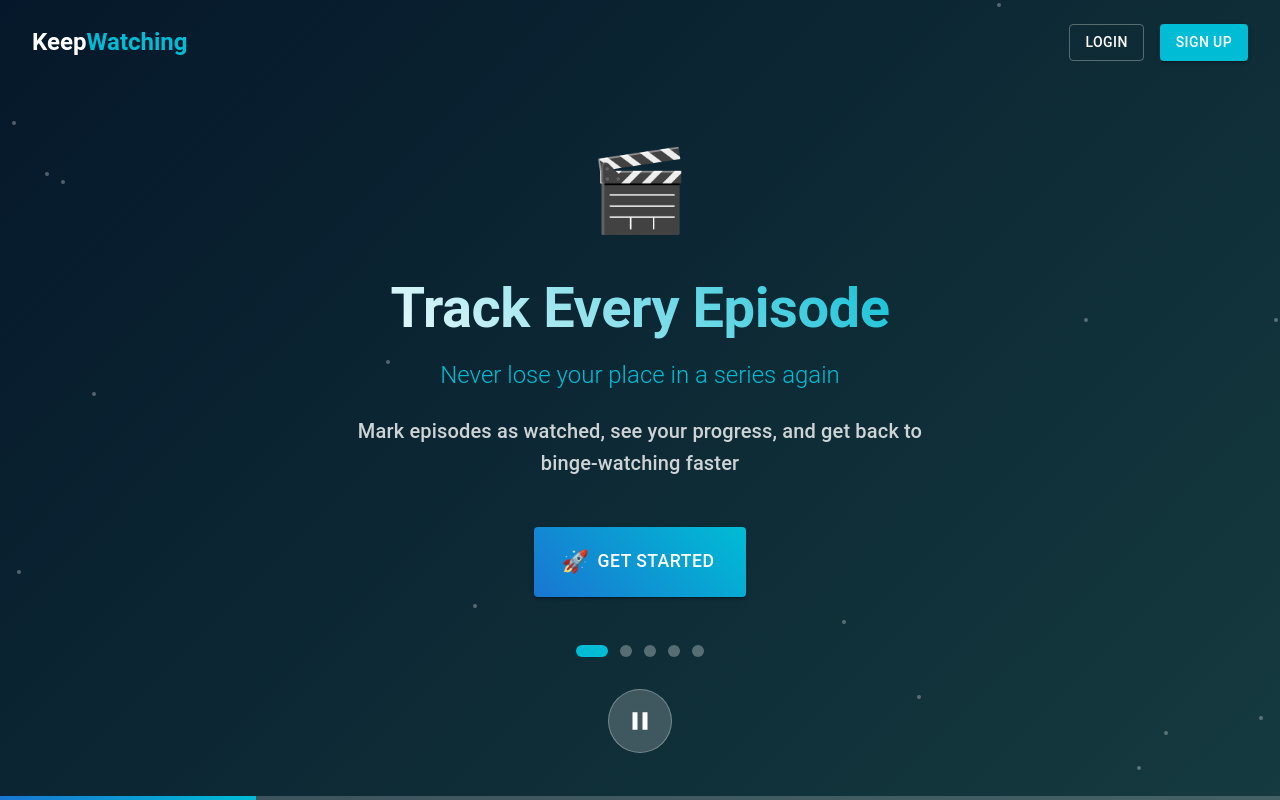
Test case: EnhancedDefault › slide navigation › should allow manual slide navigation via indicators
Expected: the heading "Track Every Episode" is shown, [340,275,940,343]
// Click third slide indicator (index 2, accounting for play/pause button)
Click the 3rd button: (650,651) [644,645,656,657]
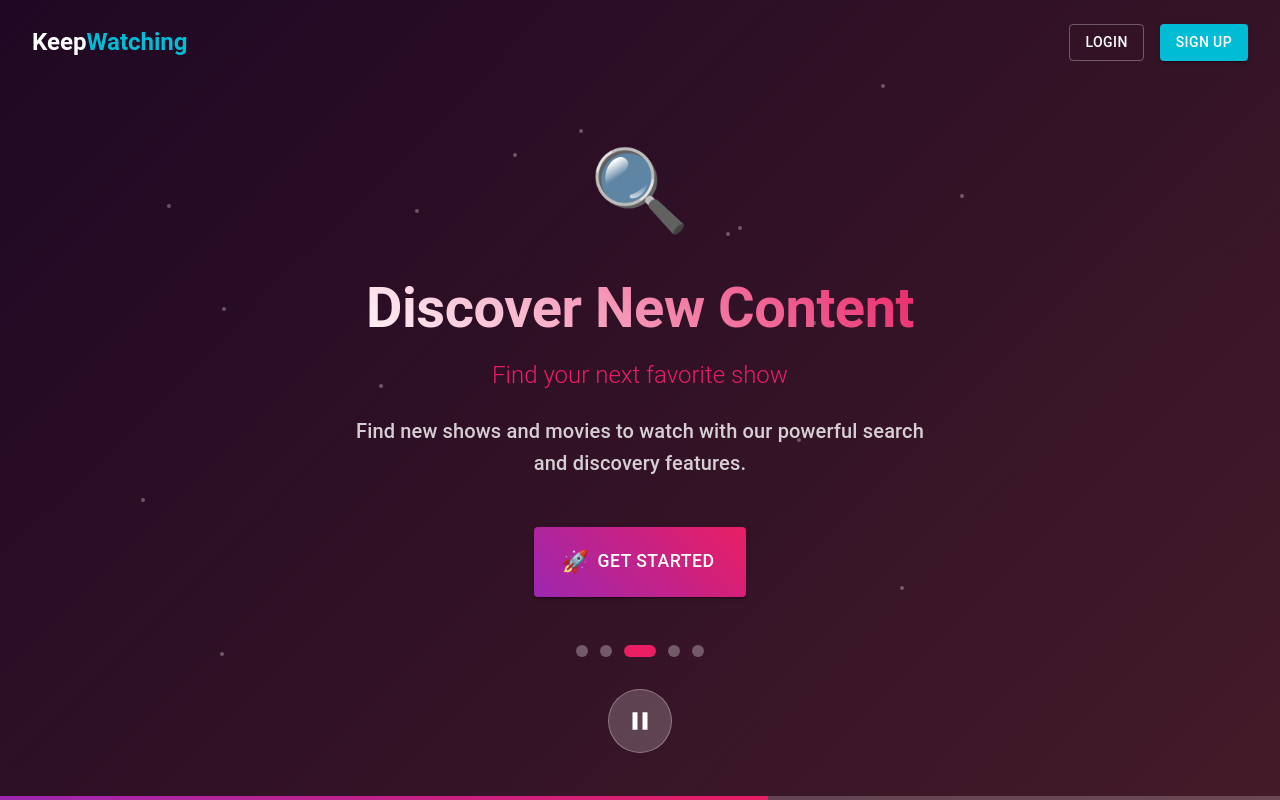
Expected: the heading "Discover New Content" is shown, [340,275,940,343]
